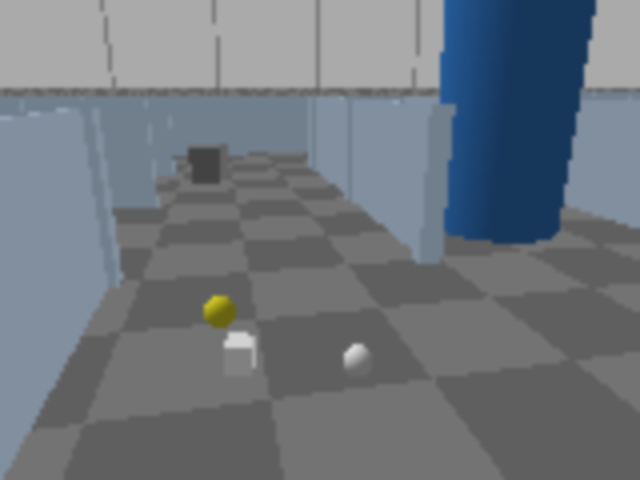puck: (336, 336, 380, 387), (198, 290, 241, 335), (222, 334, 256, 376)
